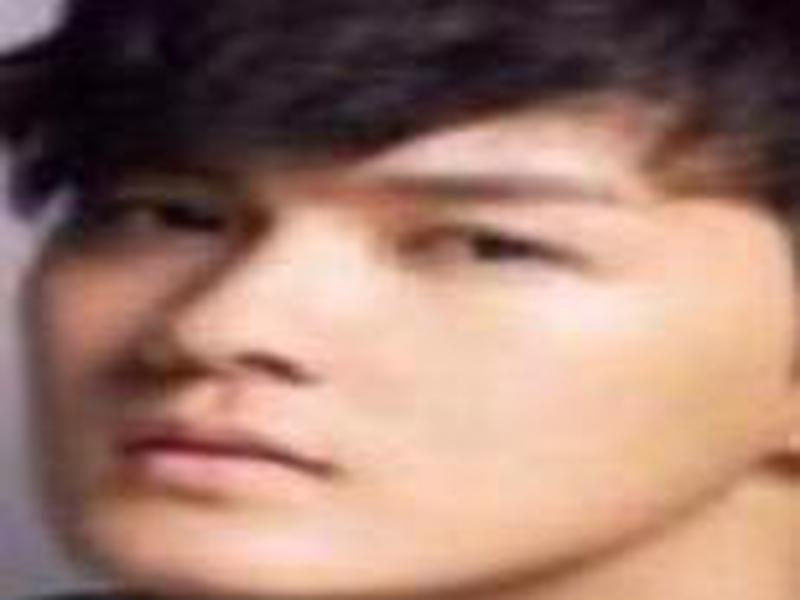without_mask: (23, 87, 724, 600)
